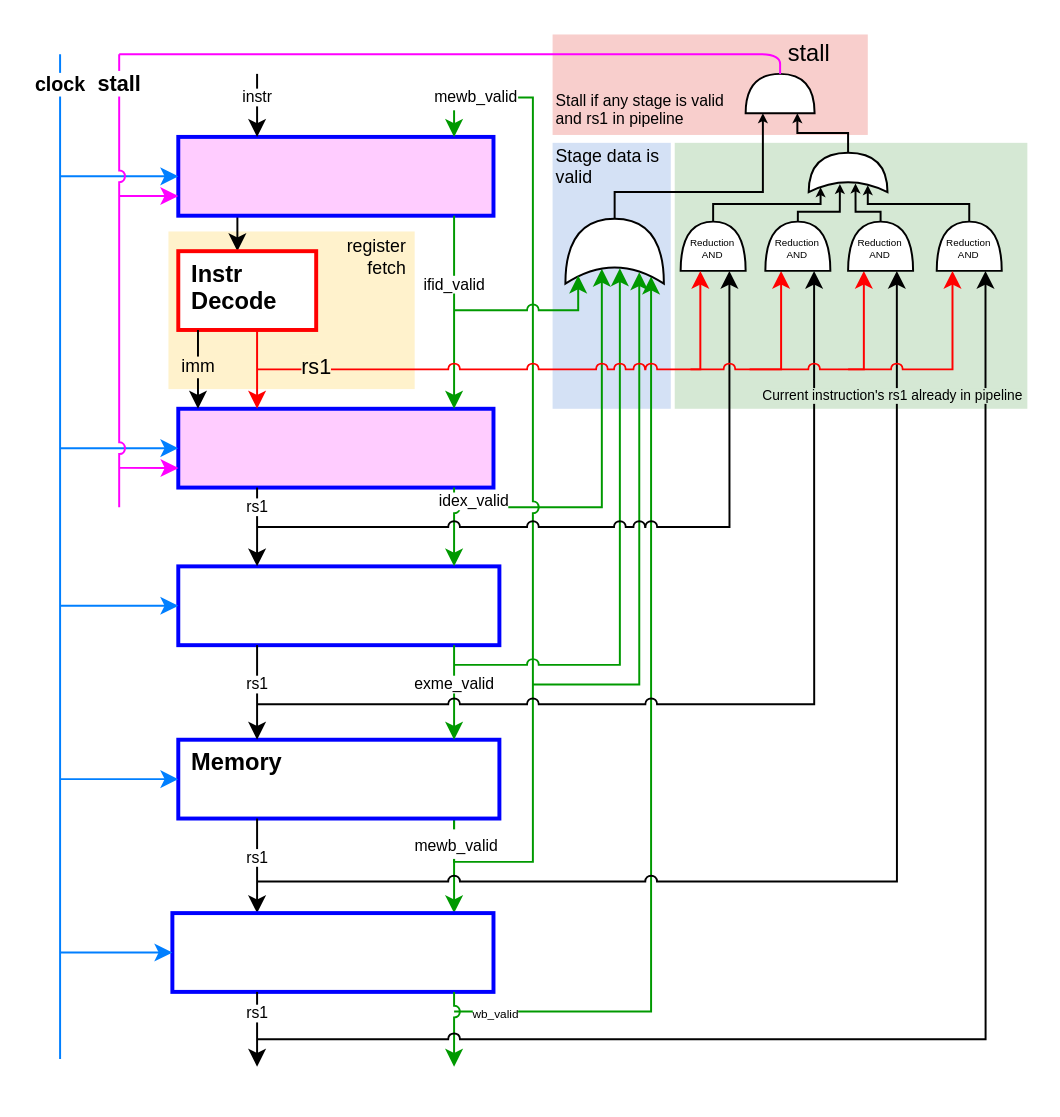
Image size: 1060x1117. Some labels were removed from this diagram. Here are the shapes that lost their labels. From the top down, the centre of each, then its label:
point (334, 175): Fetch
point (334, 447): Decode
point (337, 604): Execute
point (331, 951): Write-back
